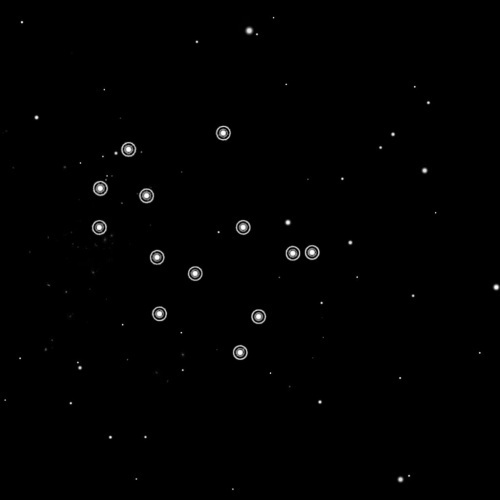gemini: (81, 124, 324, 364)
